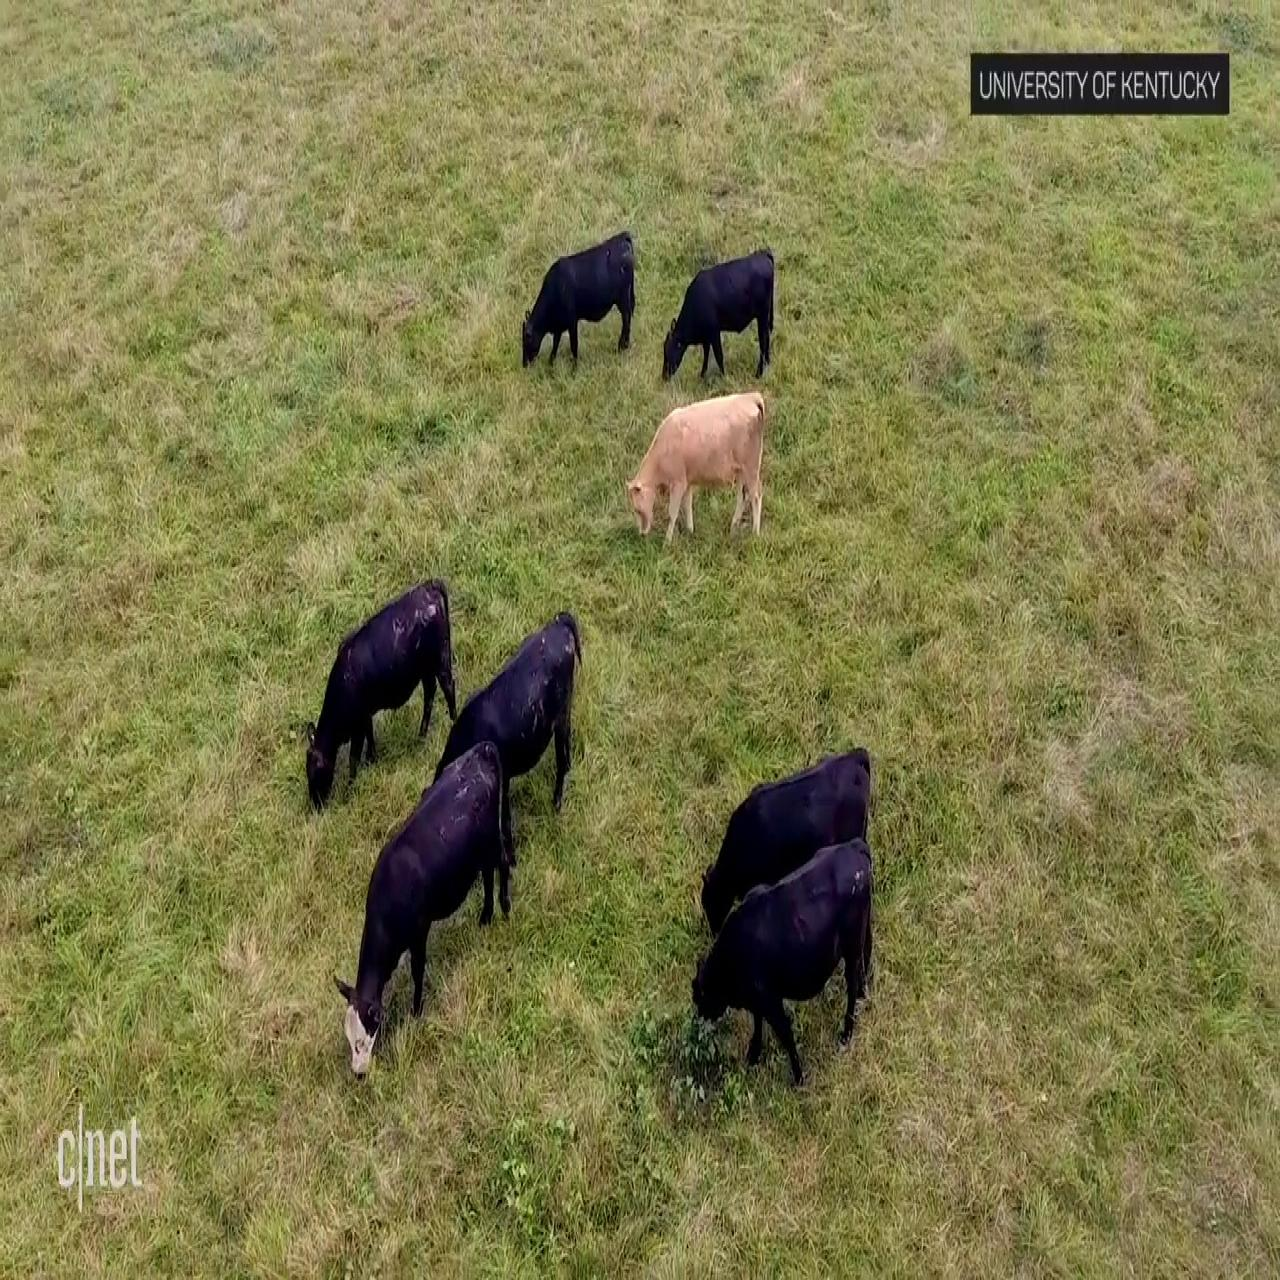cow: (326, 734, 517, 1081), (685, 829, 872, 1110), (689, 747, 873, 964), (304, 574, 458, 821), (430, 608, 581, 829), (626, 389, 772, 546), (517, 231, 639, 380), (658, 245, 772, 384)
